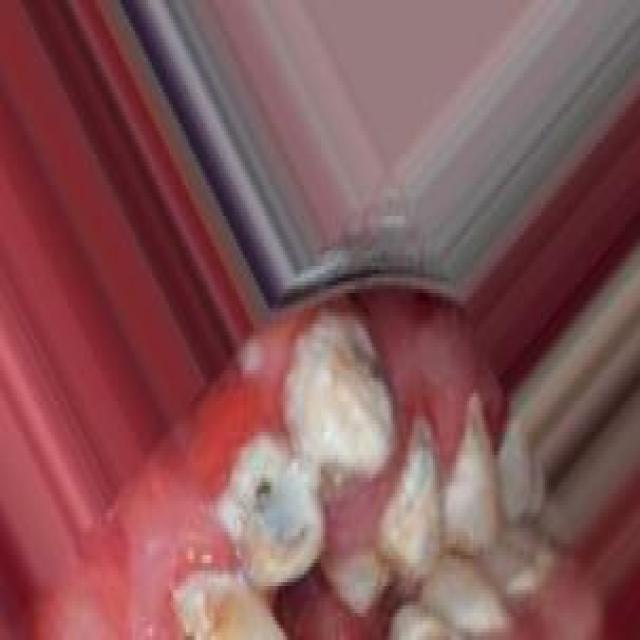caries: (242, 467, 321, 588)
